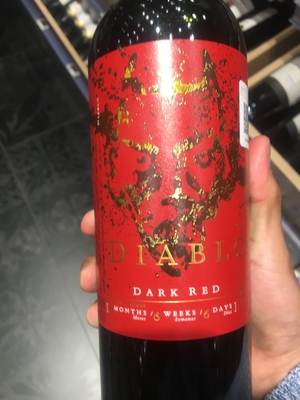diablo dark red: (82, 12, 252, 400)
